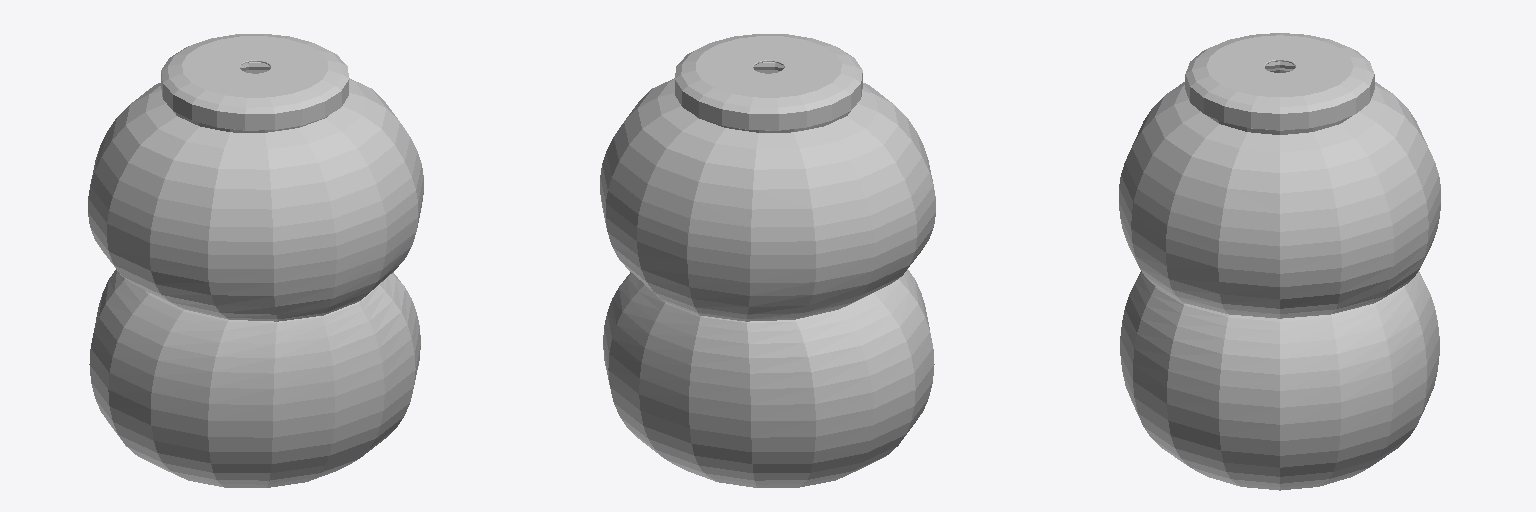
File: Duck_Bottle_2.obj
3 views of the same model, side by side, from view 1: azimuth 30°, elevation 25°; view 2: azimuth 150°, elevation 25°; view 3: azimuth 270°, elevation 25° (orthographic).
Visible parts, largest first — view 1: Duck_Bottle_2; view 2: Duck_Bottle_2; view 3: Duck_Bottle_2.
Part boxes in pixels (left/top/right/bottom): Duck_Bottle_2: left=88, top=34, right=423, bottom=487; Duck_Bottle_2: left=600, top=34, right=935, bottom=487; Duck_Bottle_2: left=1119, top=33, right=1440, bottom=490.
Bounding box in the file's own units: 12.35 × 14.98 × 11.57.